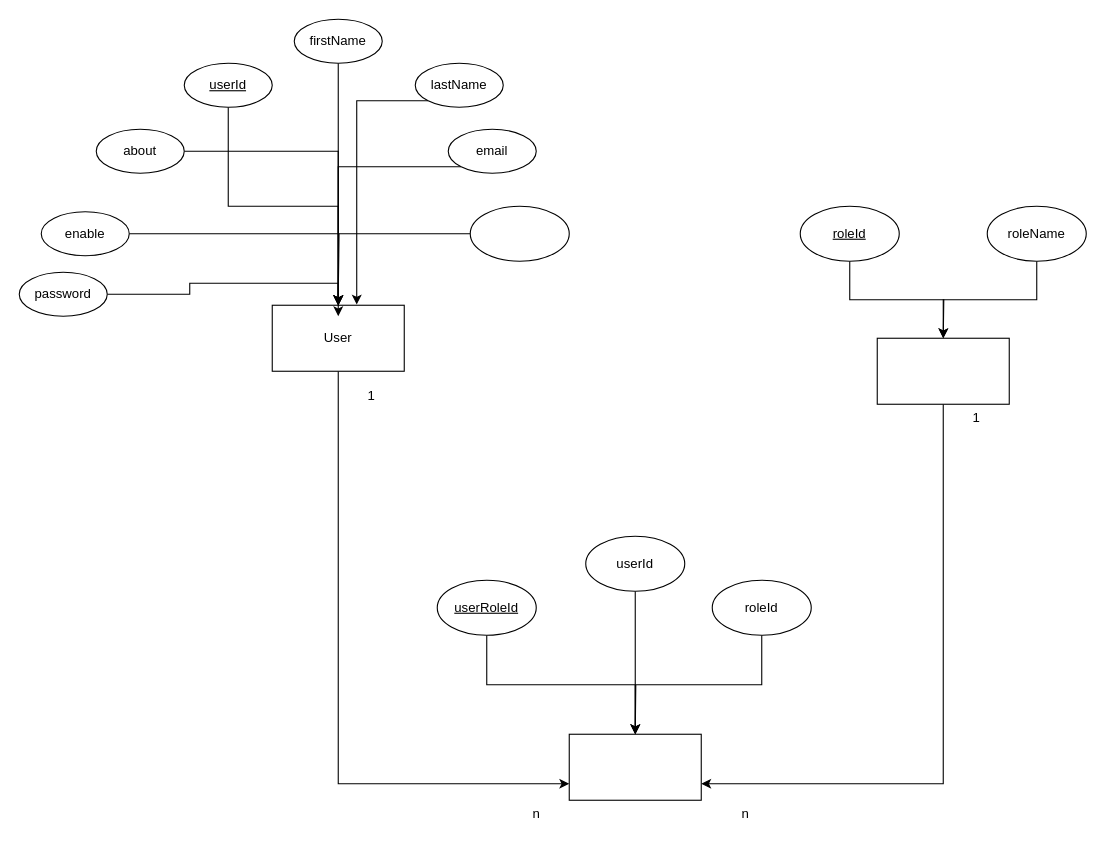
Some shapes in this 1106 by 850 pixel diagram are drawn without their labels. The centre of each missing label's shape, as x and y in pixels:
"phoneNumber" goes at (x=519, y=233).
"Role" goes at (x=942, y=370).
"user_role" goes at (x=634, y=766).
